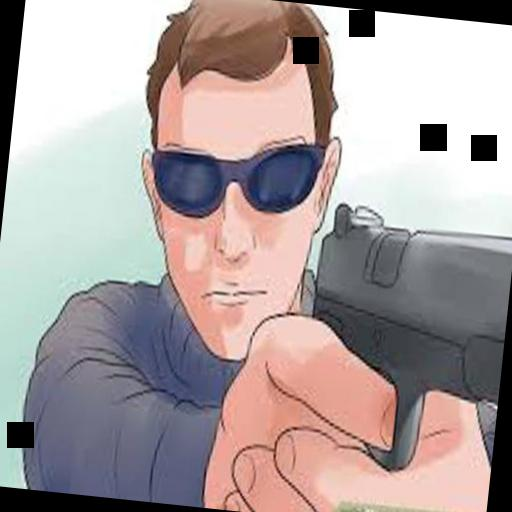Handgun: (291, 192, 512, 488)
